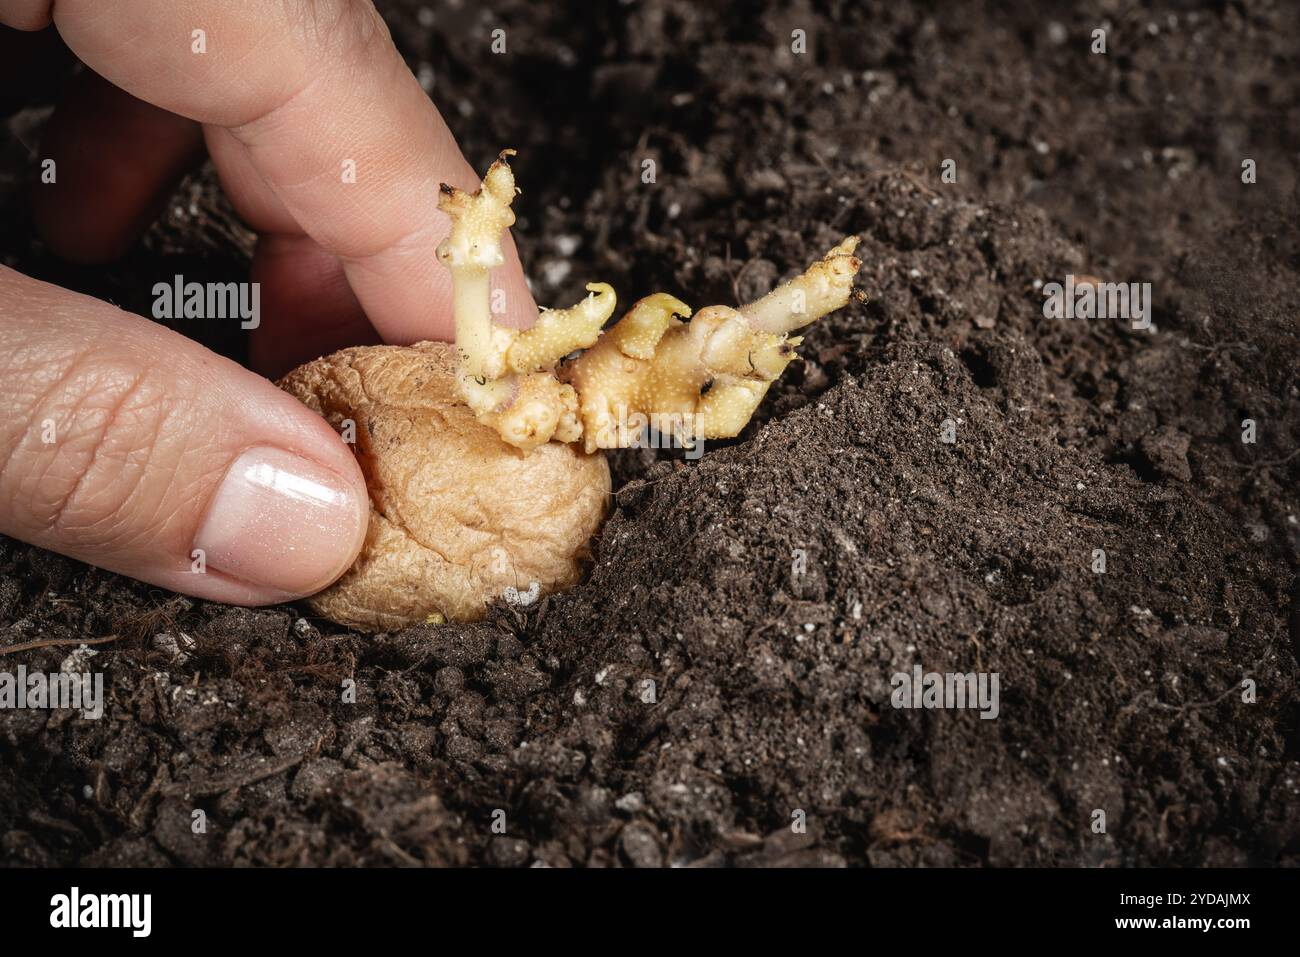potato rotten: (306, 297, 804, 641)
